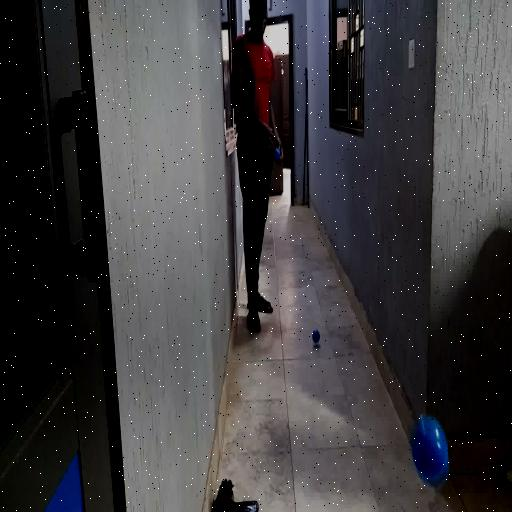plastic-ball: (412, 414, 450, 488)
